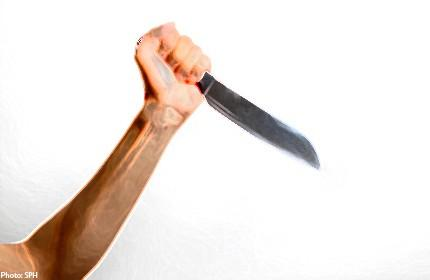Knife: (0, 21, 211, 280), (205, 73, 320, 170), (135, 20, 211, 116)
